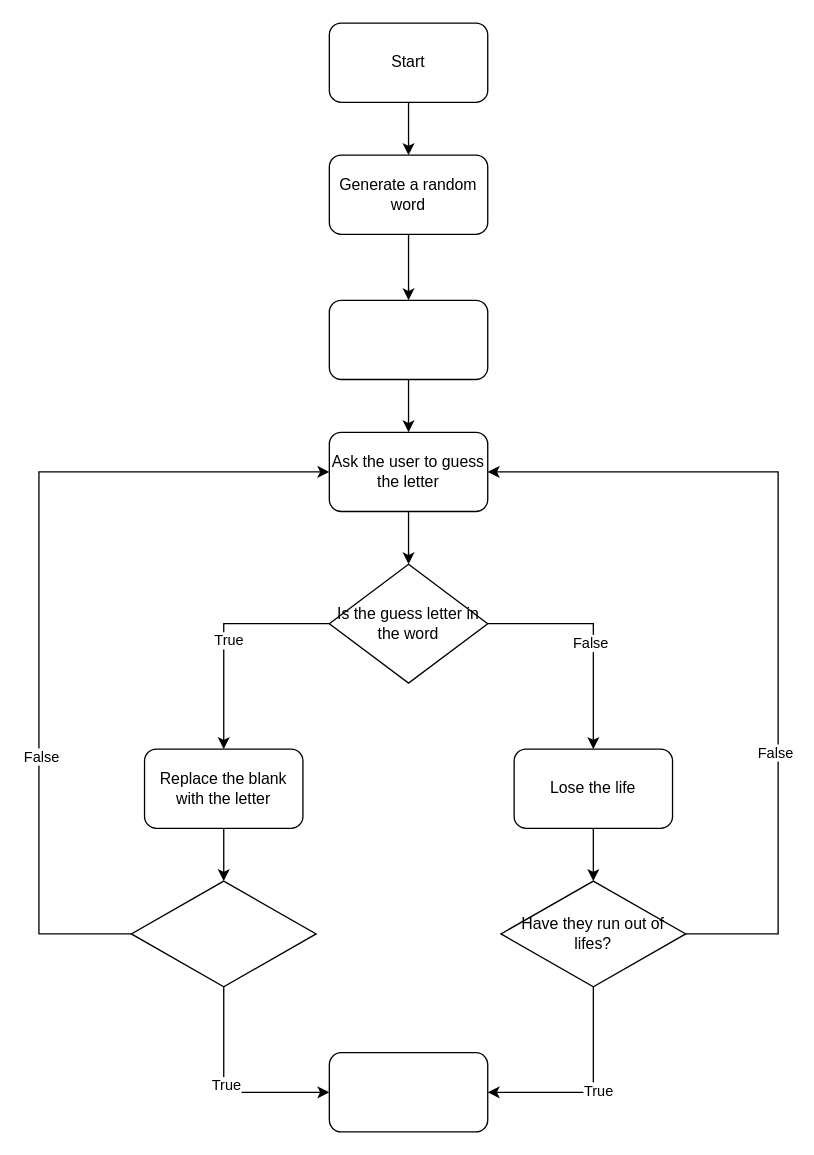
Image size: 814x1155. Some labels were removed from this diagram. Each missing label, with the centre of its shape:
"Are all the blank filled?" belongs at [223,933].
"Game Over" belongs at [408,1091].
"Generate as many blank as letters in word" belongs at [408,339].
